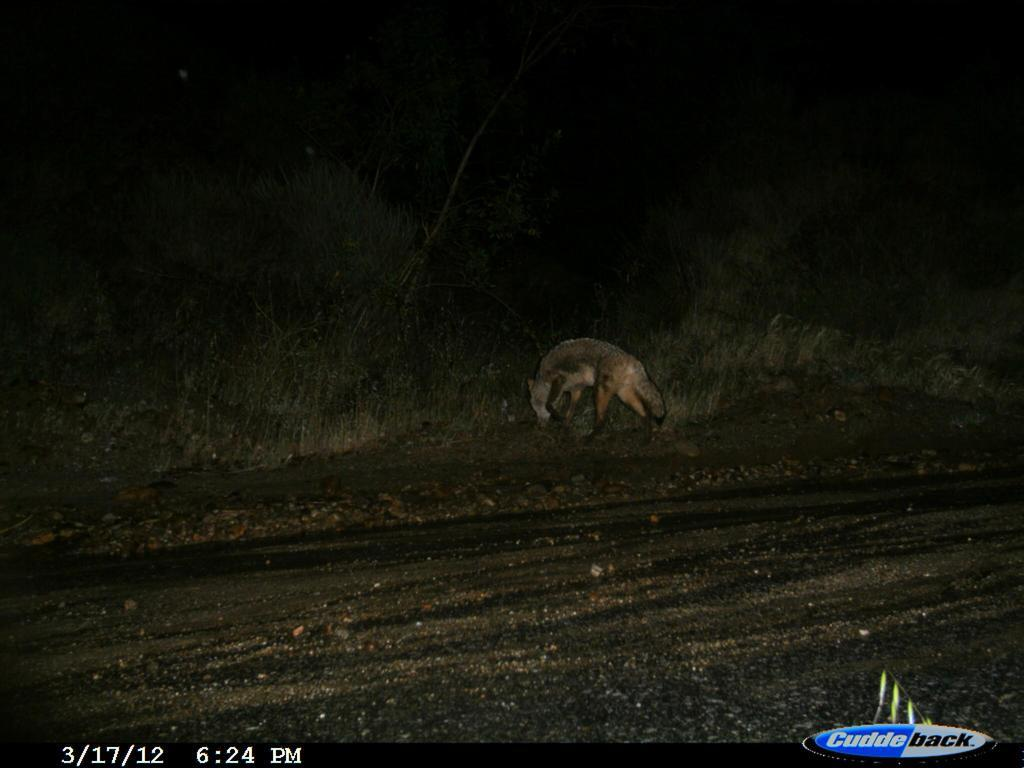coyote: (520, 326, 676, 457)
